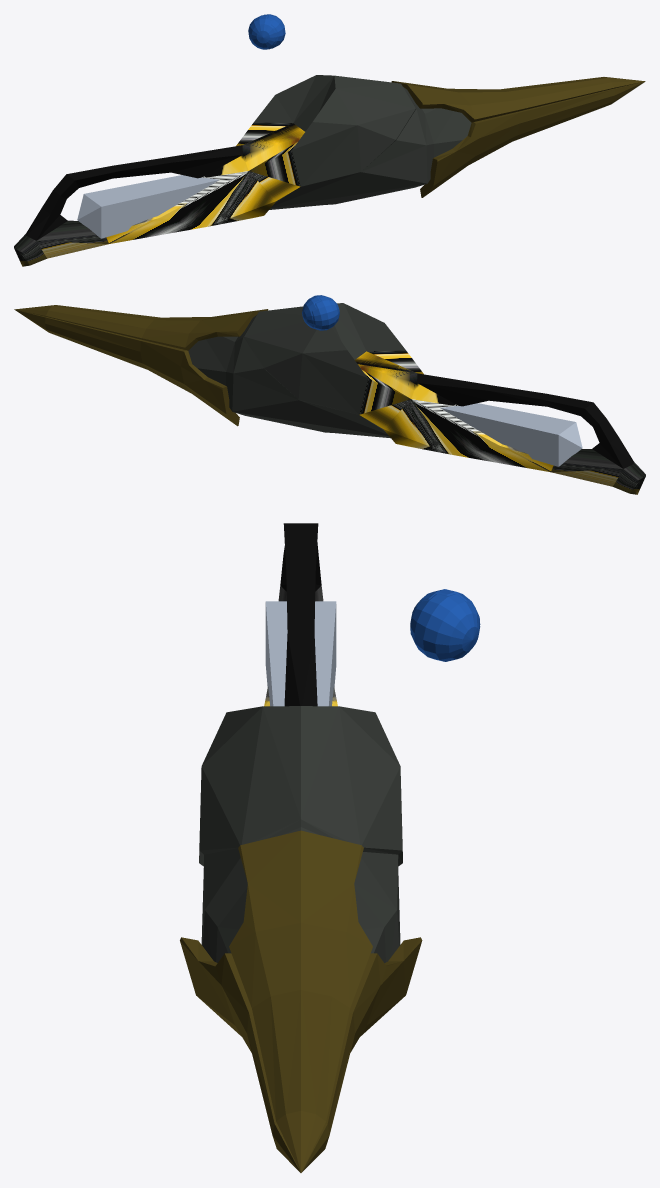
File: Gravity Rifle.obj
3 views of the same model, one above another, from view 1: azimuth 30°, elevation 25°; view 2: azimuth 150°, elevation 25°; view 3: azimuth 270°, elevation 25° (orthographic). The views are drawn at different scales.
Visible parts, largest first — view 1: __unnamed, frame_gun, _marine_left_hand; view 2: __unnamed, frame_gun, _marine_left_hand, _cyborg_left_hand; view 3: __unnamed, frame_gun, _cyborg_left_hand.
Boxes of the visible parts, x1,y1,x2,y2 form: __unnamed: (14, 75, 645, 266); frame_gun: (77, 175, 219, 238); _marine_left_hand: (248, 15, 276, 49); __unnamed: (14, 303, 645, 494); frame_gun: (440, 403, 582, 466); _marine_left_hand: (312, 295, 339, 330); _cyborg_left_hand: (302, 295, 324, 329); __unnamed: (180, 523, 422, 1172); frame_gun: (265, 601, 336, 706); _cyborg_left_hand: (410, 593, 480, 661).
Size of the model in its own units: 41.35 by 10.64 by 8.51.
